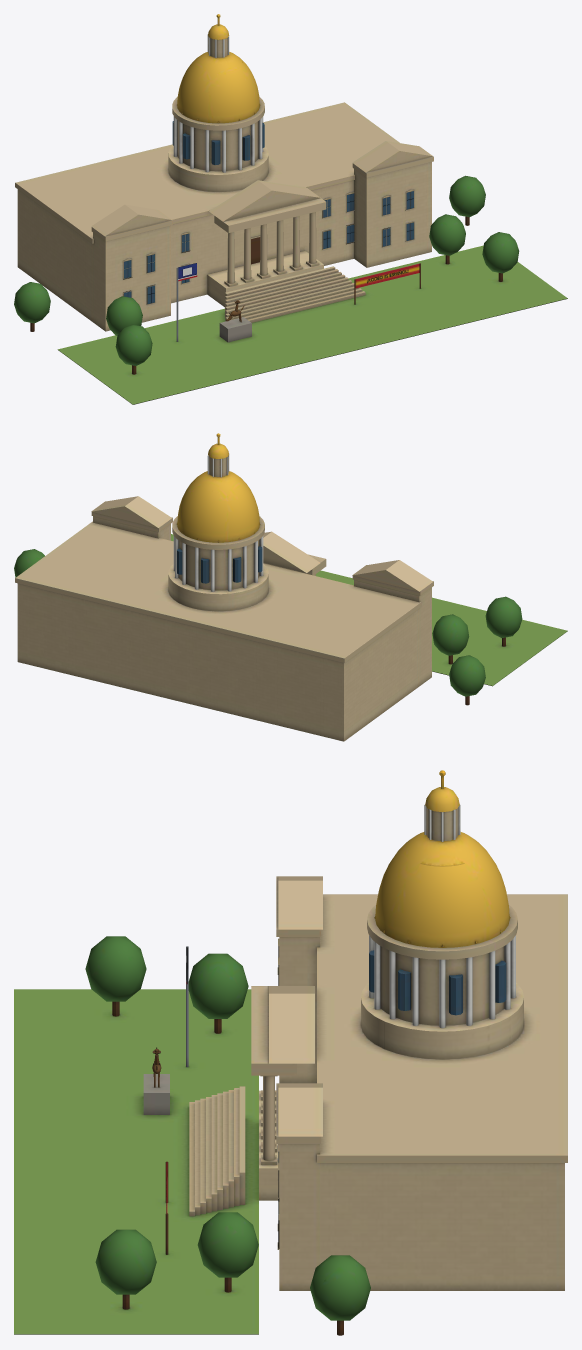
File: capitolio_wyoming.glb
The picture shows the model from 3 angles, top to bottom: view 1: azimuth 30°, elevation 25°; view 2: azimuth 150°, elevation 25°; view 3: azimuth 270°, elevation 25°; orthographic projection. The views are drawn at different scales.
Visible parts, largest first — view 1: capitolio_wyoming; view 2: capitolio_wyoming; view 3: capitolio_wyoming.
Boxes of the visible parts, box(x1,y1,x2,y2) form: capitolio_wyoming: box(14, 14, 567, 404); capitolio_wyoming: box(14, 433, 567, 741); capitolio_wyoming: box(14, 770, 567, 1335).
Bounding box in the file's own units: 85.71 × 42.4 × 54.3.
Materials: 1 (1 with a texture image).
